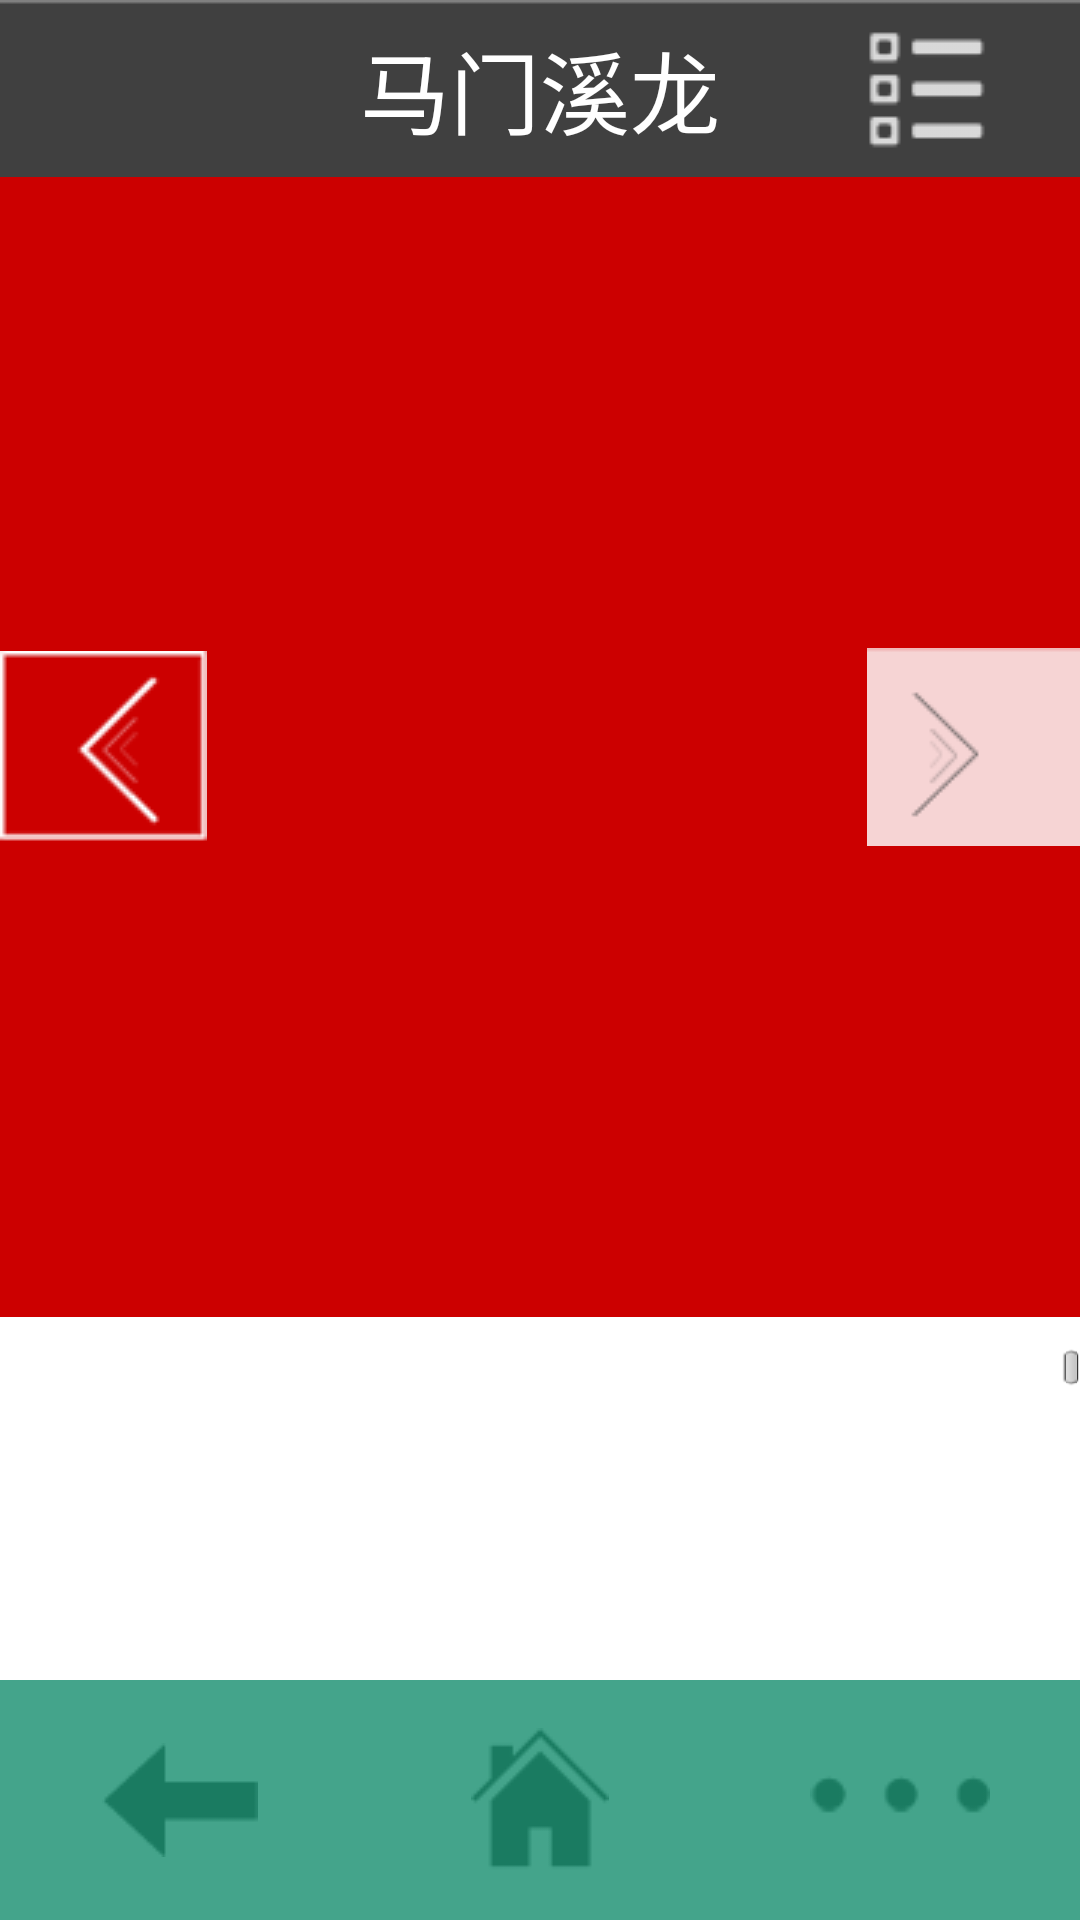

Named icons in this screenshot (1080w x 1920h) and their centers, (x,y):
back: (181,1800)
home: (541,1798)
top list: (926,89)
